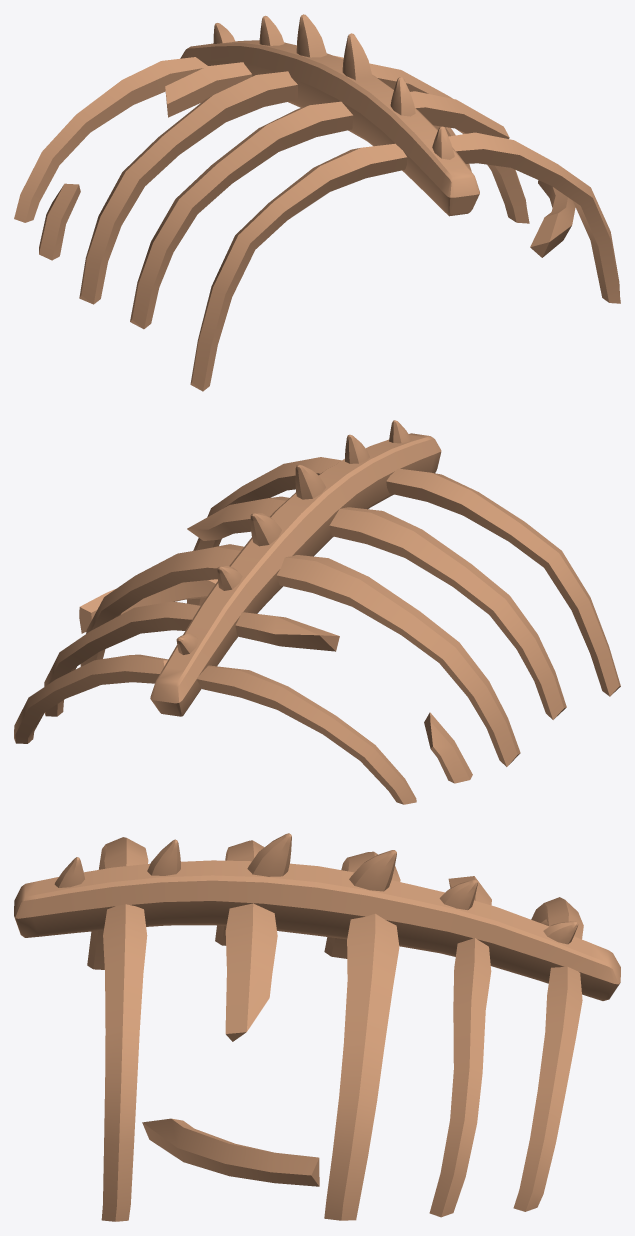
Rendered from ribs.glb.
3 renders of one model, top to bottom at view 1: azimuth 30°, elevation 25°; view 2: azimuth 150°, elevation 25°; view 3: azimuth 270°, elevation 25°, orthographic. The views are drawn at different scales.
Parts seen in each view (by area): view 1: Environment_LargeBones; view 2: Environment_LargeBones; view 3: Environment_LargeBones.
Boxes of the visible parts, box(x1,y1,x2,y2) form: Environment_LargeBones: box(14, 14, 620, 391); Environment_LargeBones: box(14, 420, 620, 804); Environment_LargeBones: box(14, 833, 620, 1221).
Size of the model in its own units: 6.5 by 3.43 by 6.62.
1 material, 1 textured.
